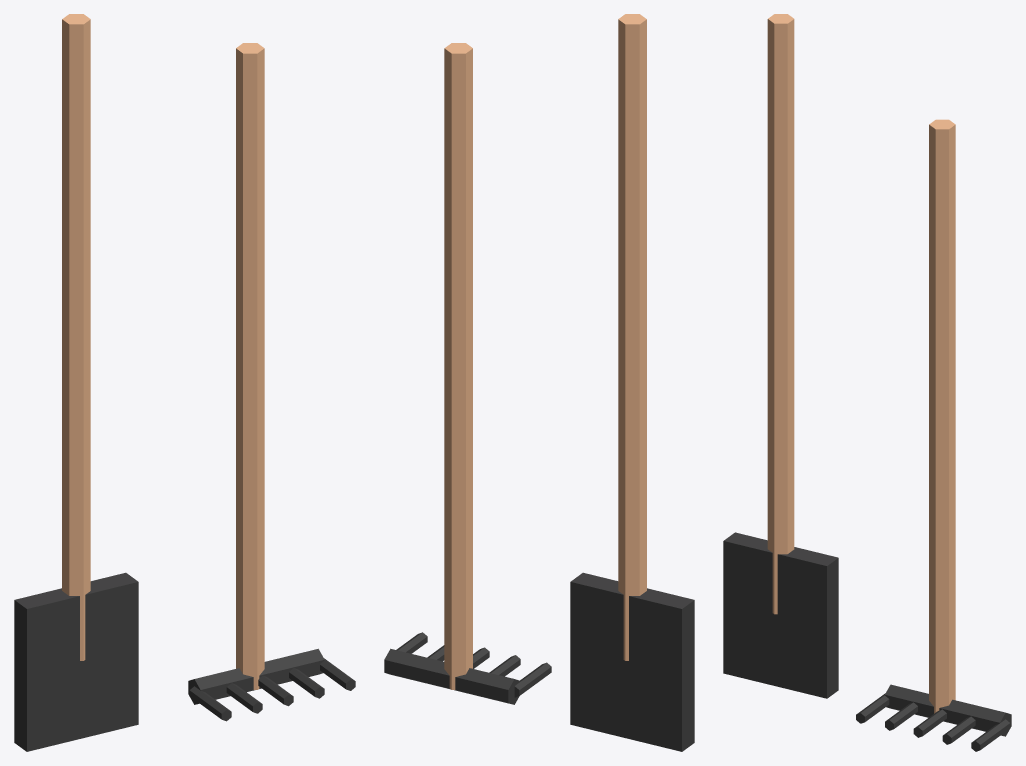
The picture shows the model from 3 angles, left to right: view 1: azimuth 30°, elevation 25°; view 2: azimuth 150°, elevation 25°; view 3: azimuth 330°, elevation 25°; orthographic projection. The views are drawn at different scales.
Parts seen in each view (by area): view 1: Spade, Tool handle.001, Tool handle, Rake head, Rake tine; view 2: Spade, Tool handle.001, Tool handle, Rake head, Rake tine; view 3: Spade, Tool handle.001, Tool handle, Rake head, Rake tine.004.
Part boxes in pixels (left/top/right/bottom): Spade: left=14, top=572, right=138, bottom=751; Tool handle.001: left=236, top=43, right=264, bottom=689; Tool handle: left=62, top=14, right=90, bottom=660; Rake head: left=188, top=648, right=324, bottom=704; Rake tine: left=189, top=686, right=231, bottom=721; Spade: left=570, top=572, right=694, bottom=751; Tool handle.001: left=444, top=43, right=472, bottom=689; Tool handle: left=618, top=14, right=646, bottom=660; Rake head: left=384, top=648, right=520, bottom=704; Rake tine: left=514, top=662, right=551, bottom=697; Spade: left=723, top=532, right=838, bottom=698; Tool handle.001: left=929, top=119, right=955, bottom=713; Tool handle: left=767, top=14, right=794, bottom=614; Rake head: left=885, top=684, right=1011, bottom=736; Rake tine.004: left=971, top=719, right=1010, bottom=751.
Bounding box in the file's own units: 48.78 × 110 × 11.
